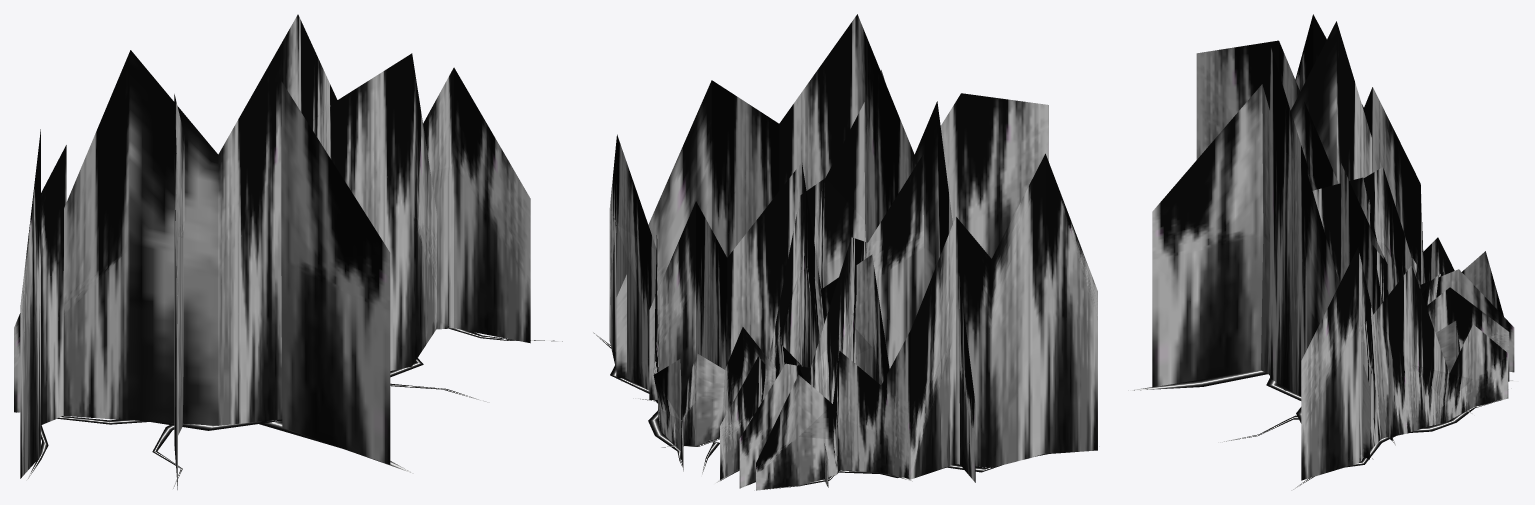
File: 0041_Mikal@Spell3_l.fbx
3 renders of one model, left to right at view 1: azimuth 30°, elevation 25°; view 2: azimuth 150°, elevation 25°; view 3: azimuth 270°, elevation 25°, orthographic. The views are drawn at different scales.
Visible parts, largest first — view 1: Ray, dilie; view 2: Ray, dilie; view 3: Ray, dilie.
Part boxes in pixels (x1,y1,x2,y2): Ray: (14,14,530,489); dilie: (17,328,562,488); Ray: (609,14,1097,490); dilie: (592,331,1053,490); Ray: (1152,14,1514,480); dilie: (1130,370,1518,490).
Bounding box in the file's own units: 8.2 × 5.81 × 6.14.
2 materials, 2 textured.
